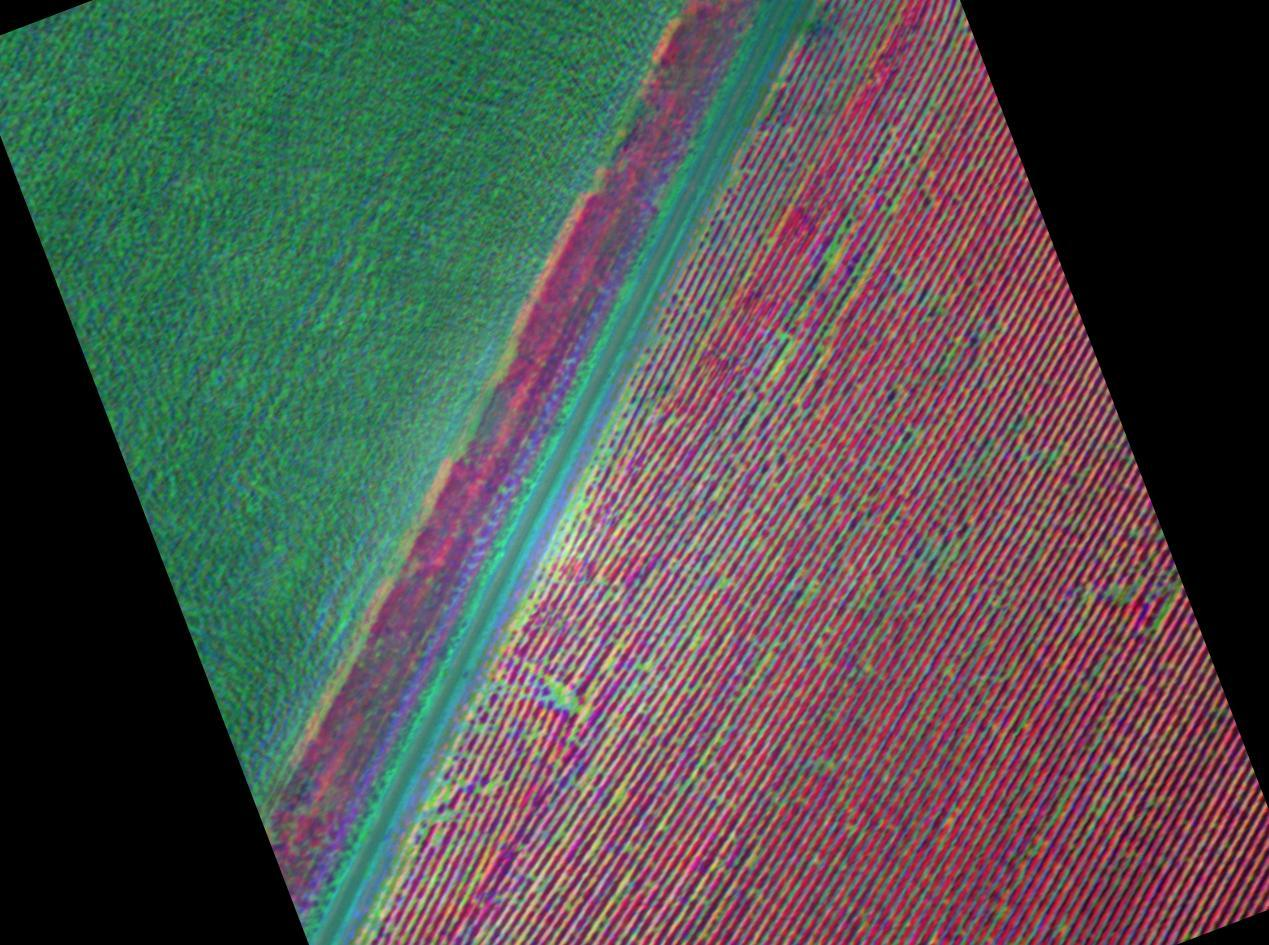dc: (827, 258, 832, 264), (572, 705, 577, 710), (433, 838, 438, 843), (550, 694, 554, 699), (489, 785, 494, 789), (642, 665, 646, 669), (552, 685, 556, 689), (784, 350, 787, 353), (776, 363, 779, 366), (759, 483, 762, 486), (825, 627, 828, 630)
